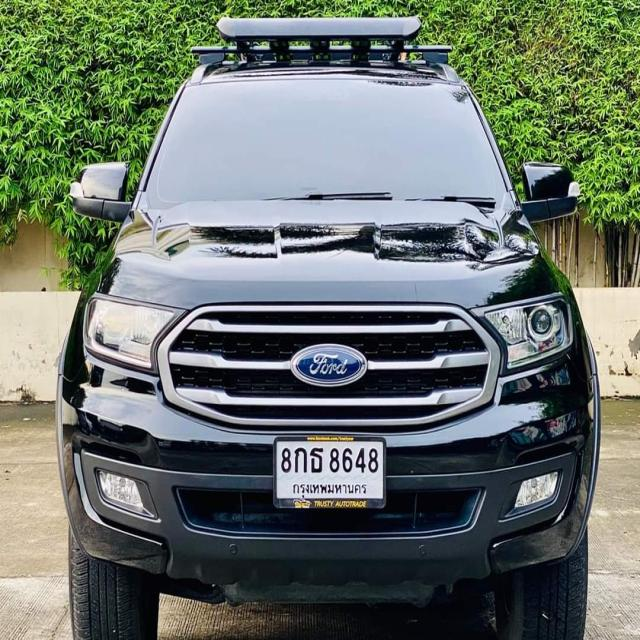license_plate: (270, 430, 390, 513)
